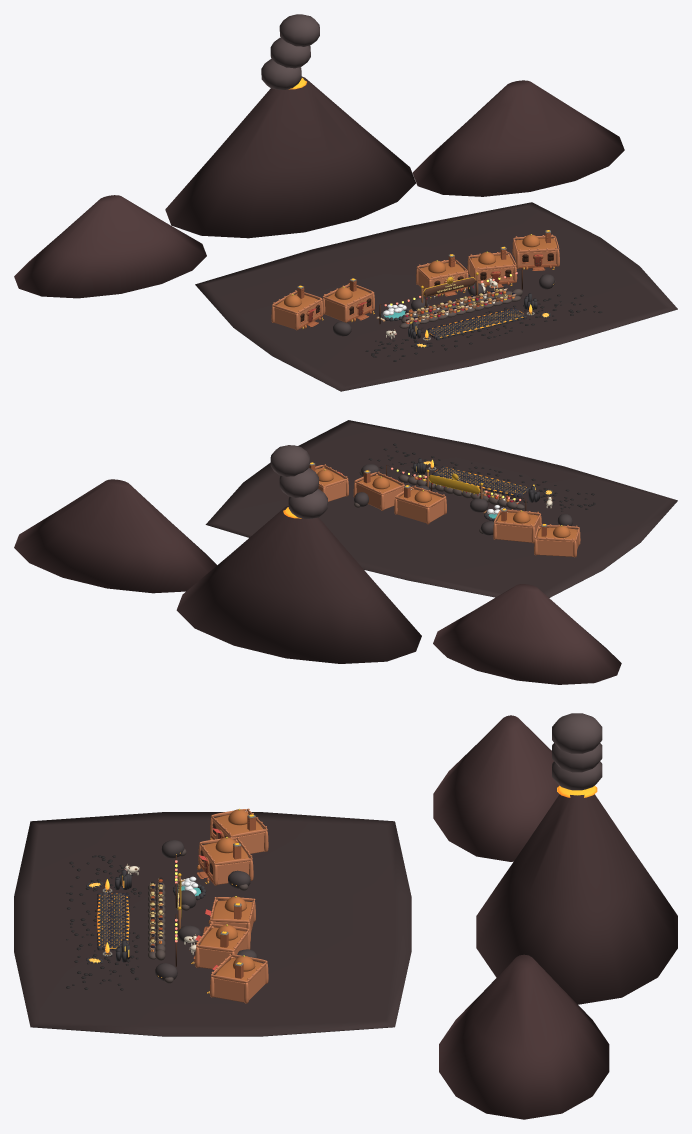
Rendered from brasaviva.glb.
The picture shows the model from 3 angles, top to bottom: view 1: azimuth 30°, elevation 25°; view 2: azimuth 150°, elevation 25°; view 3: azimuth 270°, elevation 25°; orthographic projection. The views are drawn at different scales.
Parts seen in each view (by area): view 1: estatico 0, estatico 2, estatico 1, vivo_vapor_58 malla, vivo_vapor_56 malla, vivo_vapor_57 malla; view 2: estatico 0, estatico 2, estatico 1, vivo_vapor_58 malla, vivo_vapor_56 malla, vivo_vapor_57 malla; view 3: estatico 2, estatico 0, estatico 1, vivo_vapor_58 malla, vivo_vapor_57 malla, vivo_vapor_56 malla.
Part boxes in pixels (x1=…): estatico 0: x1=14, y1=76, x2=624, y2=347; estatico 2: x1=195, y1=202, x2=677, y2=391; estatico 1: x1=322, y1=230, x2=602, y2=361; vivo_vapor_58 malla: x1=279, y1=14, x2=319, y2=46; vivo_vapor_56 malla: x1=261, y1=59, x2=301, y2=89; vivo_vapor_57 malla: x1=270, y1=37, x2=310, y2=68; estatico 0: x1=14, y1=462, x2=621, y2=684; estatico 2: x1=205, y1=420, x2=677, y2=597; estatico 1: x1=309, y1=443, x2=595, y2=543; vivo_vapor_58 malla: x1=270, y1=445, x2=309, y2=476; vivo_vapor_56 malla: x1=288, y1=489, x2=327, y2=519; vivo_vapor_57 malla: x1=279, y1=468, x2=318, y2=497; estatico 2: x1=14, y1=812, x2=411, y2=1036; estatico 0: x1=86, y1=715, x2=677, y2=1119; estatico 1: x1=66, y1=836, x2=268, y2=1003; vivo_vapor_58 malla: x1=552, y1=713, x2=602, y2=753; vivo_vapor_57 malla: x1=552, y1=743, x2=602, y2=772; vivo_vapor_56 malla: x1=552, y1=761, x2=602, y2=790.
Size of the model in its own units: 132 by 36.83 by 100.
